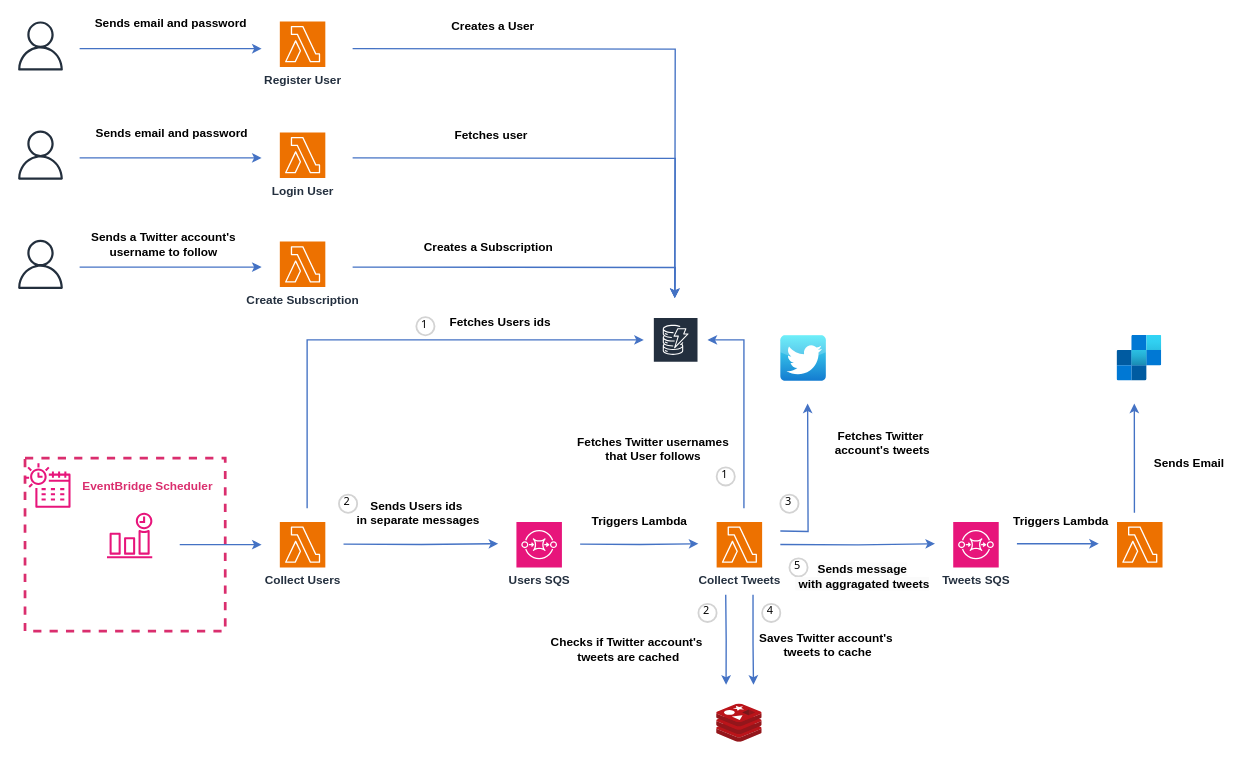
Some shapes in this 1239 by 778 pixel diagram are drawn without their labels. Each missing label, with the centre of its shape:
"DynamoDB" goes at pixel 675 339.
"Event (once a day)" goes at pixel 129 535.
"Redis" goes at pixel 739 722.
"Send Aggregated Tweets Email" goes at pixel 1139 544.
"SendGrid" goes at pixel 1139 357.
"Twitter" goes at pixel 802 357.
